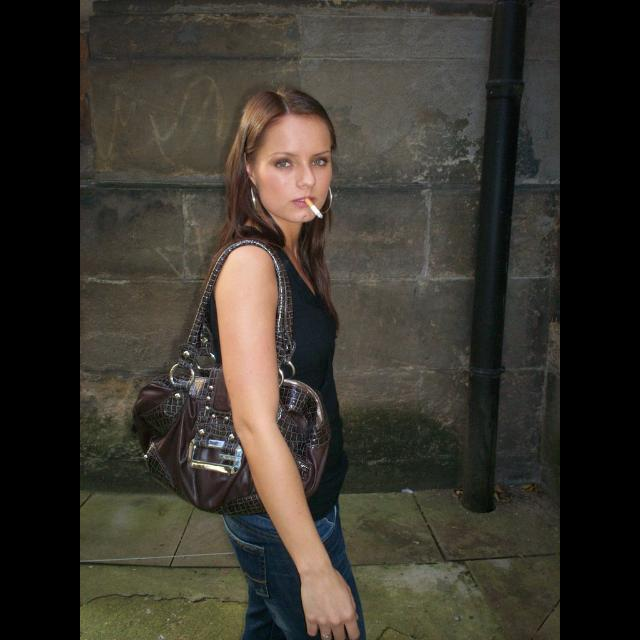rokok: (302, 196, 326, 220)
